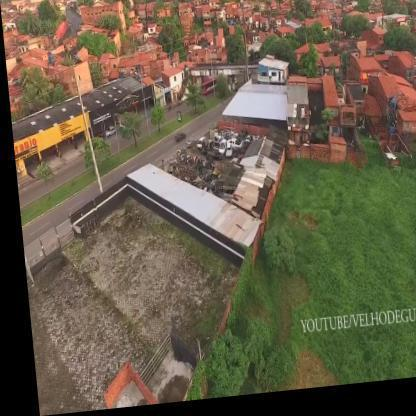lixo: (169, 156, 219, 197), (204, 130, 246, 166)
